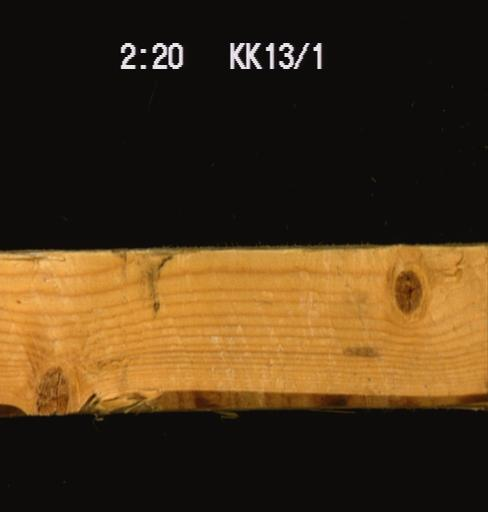sound_knot: (390, 264, 422, 315)
wave: (0, 368, 485, 417)
